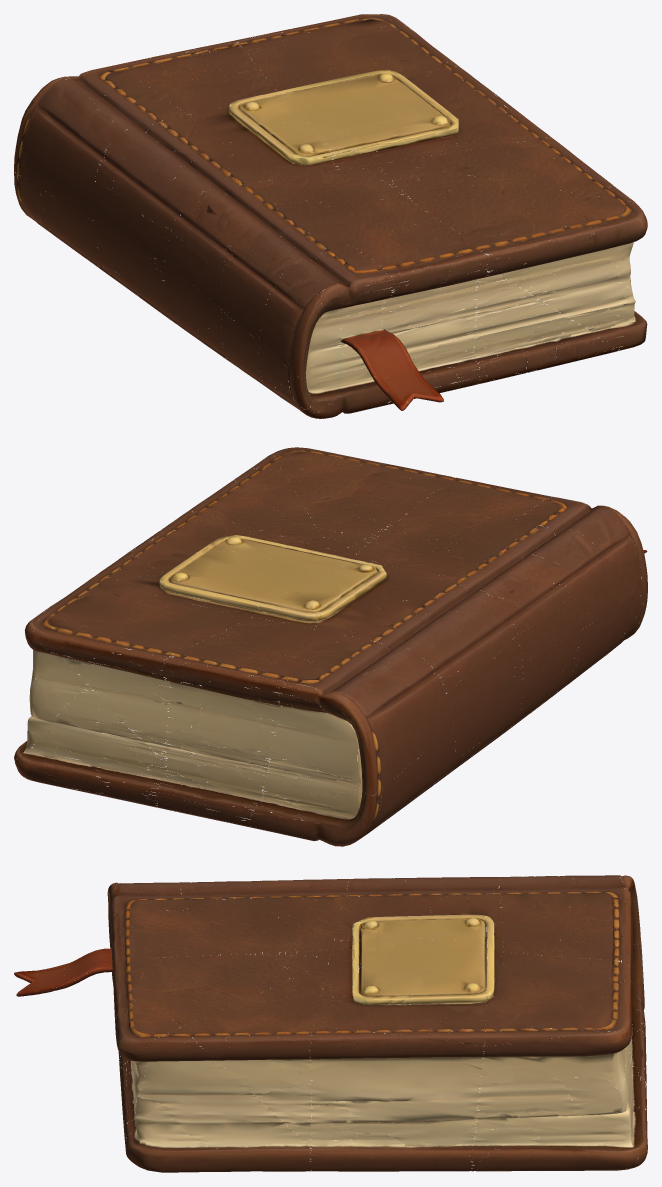
File: planner.parts.glb
3 views of the same model, one above another, from view 1: azimuth 30°, elevation 25°; view 2: azimuth 150°, elevation 25°; view 3: azimuth 270°, elevation 25° (orthographic). The views are drawn at different scales.
Parts seen in each view (by area): view 1: cover, body; view 2: cover, body; view 3: cover, body.
Boxes of the visible parts, left/top/right/bottom form: cover: left=32, top=14, right=635, bottom=301; body: left=14, top=99, right=647, bottom=418; cover: left=25, top=450, right=627, bottom=721; body: left=14, top=447, right=647, bottom=846; cover: left=108, top=875, right=634, bottom=1043; body: left=14, top=885, right=647, bottom=1172.
Size of the model in its own units: 0.6318 by 0.2691 by 0.9918.
Materials: 2 (1 with a texture image).
